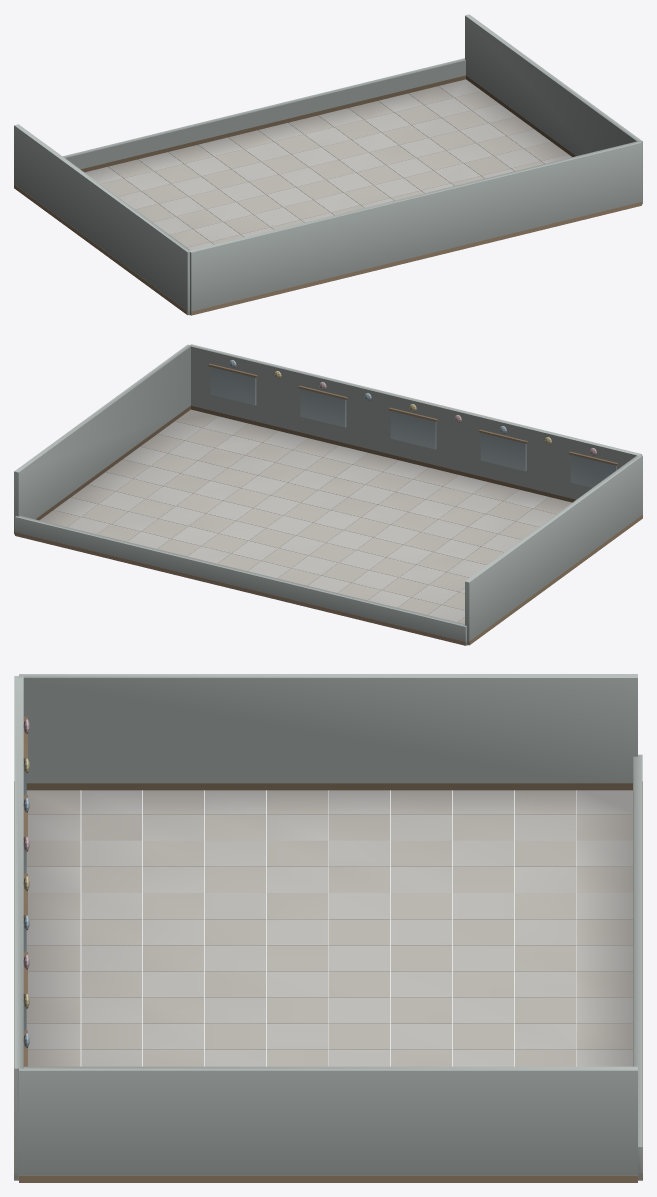
Rendered from petshop_floor3.glb.
The picture shows the model from 3 angles, top to bottom: view 1: azimuth 30°, elevation 25°; view 2: azimuth 150°, elevation 25°; view 3: azimuth 270°, elevation 25°; orthographic projection. The views are drawn at different scales.
Bounding box in the file's own units: 30.32 × 4.06 × 20.32.
